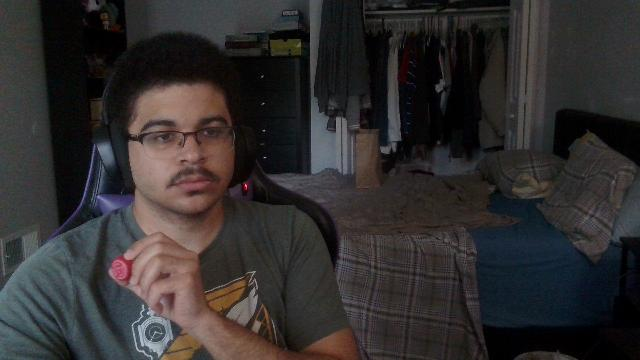cap: (112, 257, 132, 281)
